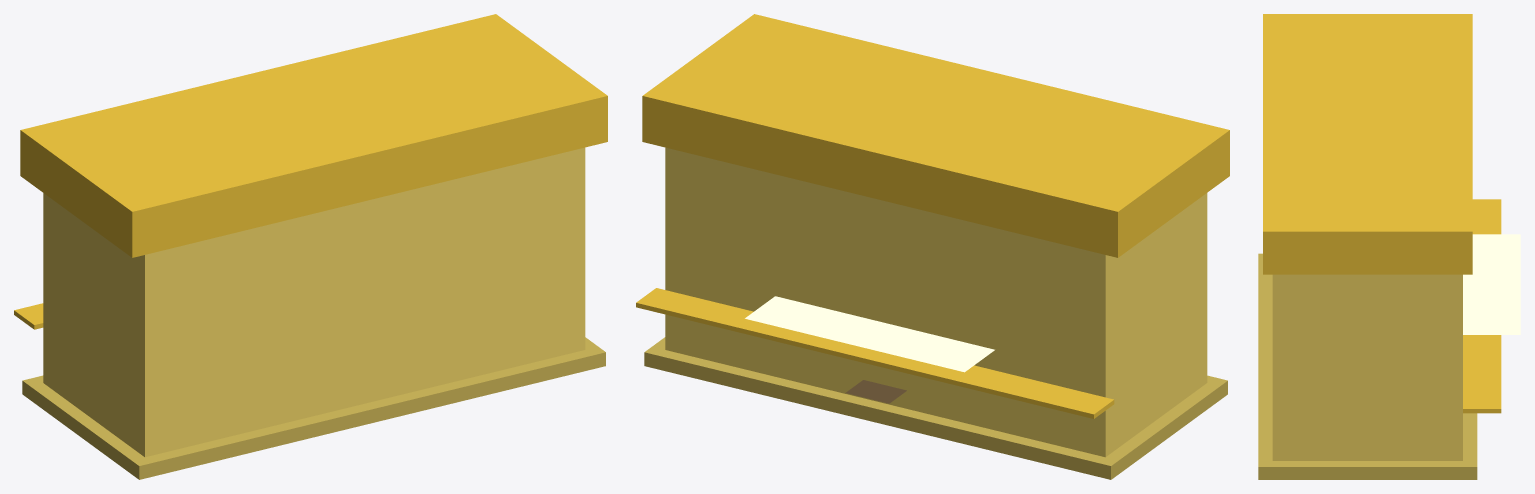
File: restaurant_row.glb
The picture shows the model from 3 angles, left to right: view 1: azimuth 30°, elevation 25°; view 2: azimuth 150°, elevation 25°; view 3: azimuth 270°, elevation 25°; orthographic projection. The views are drawn at different scales.
Visible parts, largest first — view 1: restaurant_row; view 2: restaurant_row; view 3: restaurant_row.
Part boxes in pixels (x1,y1,x2,y2): restaurant_row: [14, 14, 607, 479]; restaurant_row: [636, 14, 1229, 479]; restaurant_row: [1258, 14, 1520, 479].
Size of the model in its own units: 5.4 by 2.9 by 2.75.
